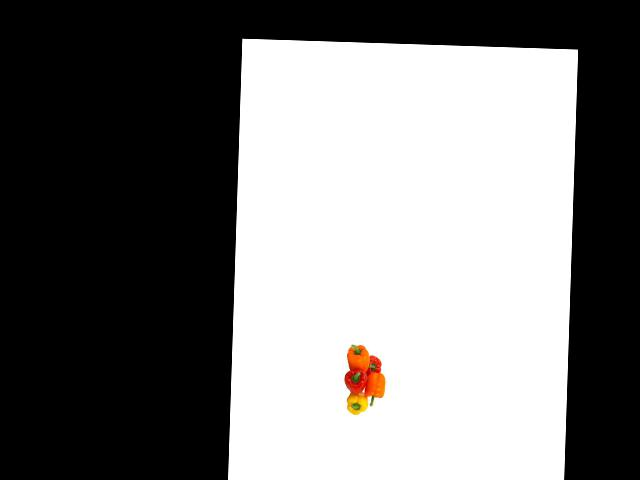bell_pepper: (343, 338, 372, 373)
